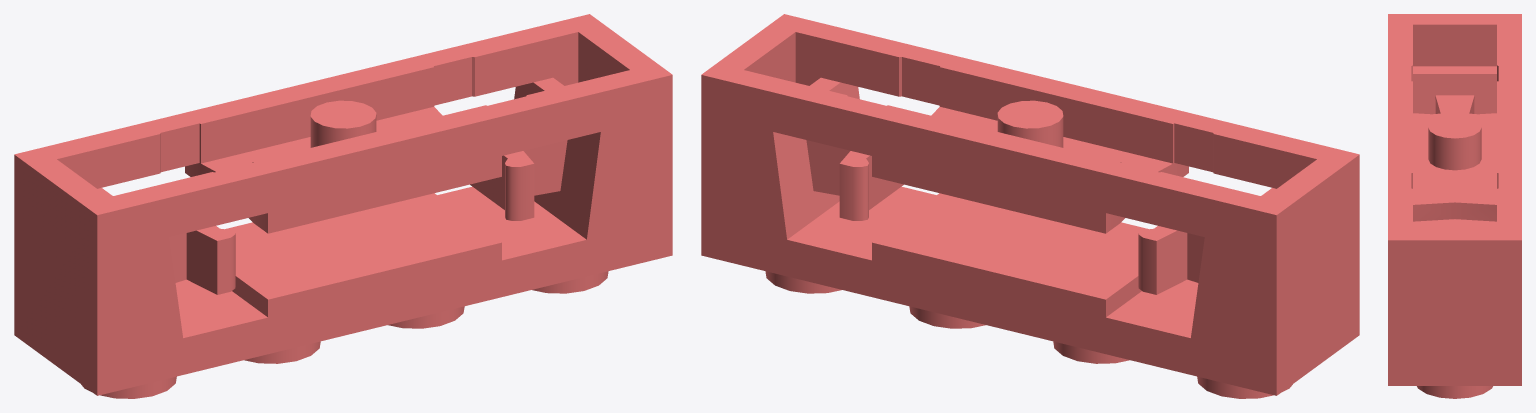
3 views of the same model, side by side, from view 1: azimuth 30°, elevation 25°; view 2: azimuth 150°, elevation 25°; view 3: azimuth 270°, elevation 25° (orthographic). The views are drawn at different scales.
Parts seen in each view (by area): view 1: LDrawPart; view 2: LDrawPart; view 3: LDrawPart.
Part boxes in pixels (<box>): LDrawPart: <box>14,14,672,398</box>; LDrawPart: <box>701,14,1359,398</box>; LDrawPart: <box>1388,14,1521,398</box>.
Size of the model in its own units: 0.56 by 0.196 by 0.14.
